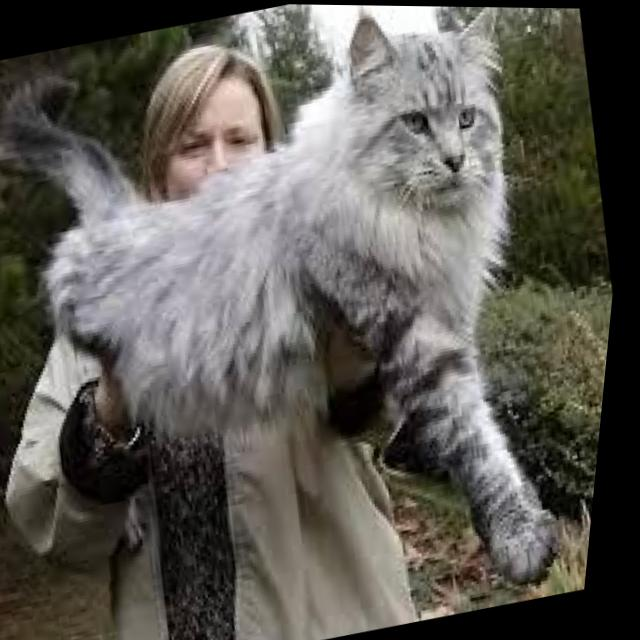cat: (245, 3, 612, 503)
